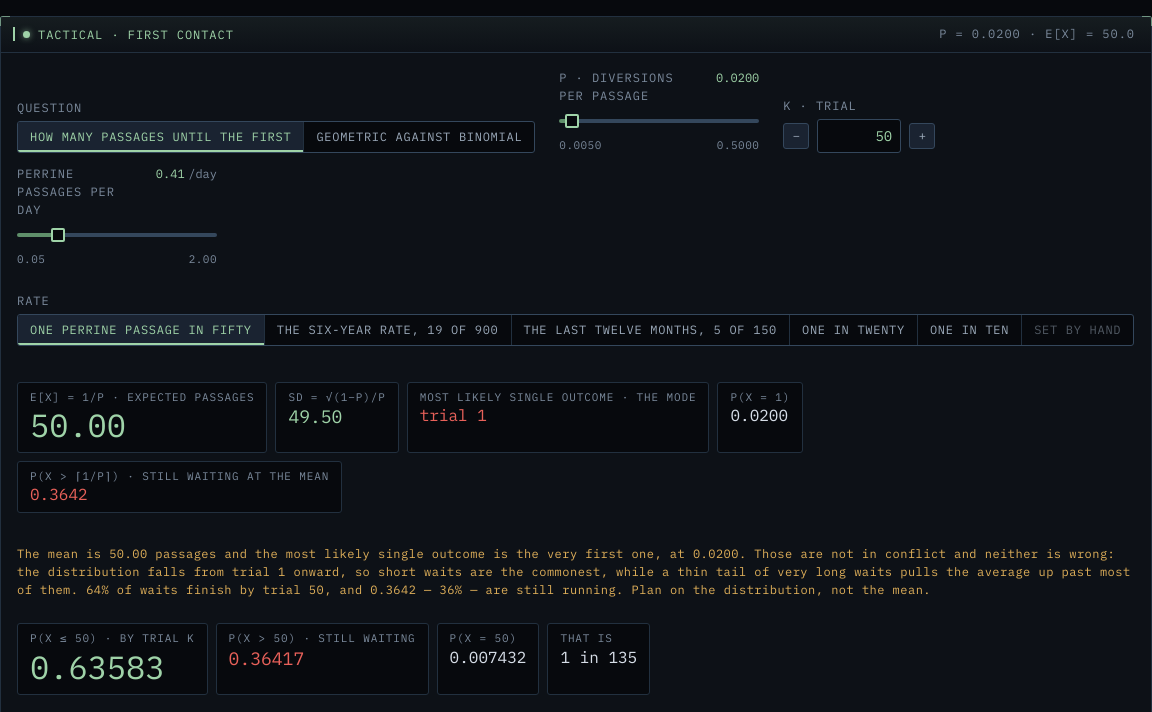
Scenario: <GeometricExplorer> › puts the geometric question beside the binomial one for the same p
Click the radio button labelled "geometric against binomial": x=419, y=137 top-left (304, 122), bottom-right (534, 152)
(page scrolled)
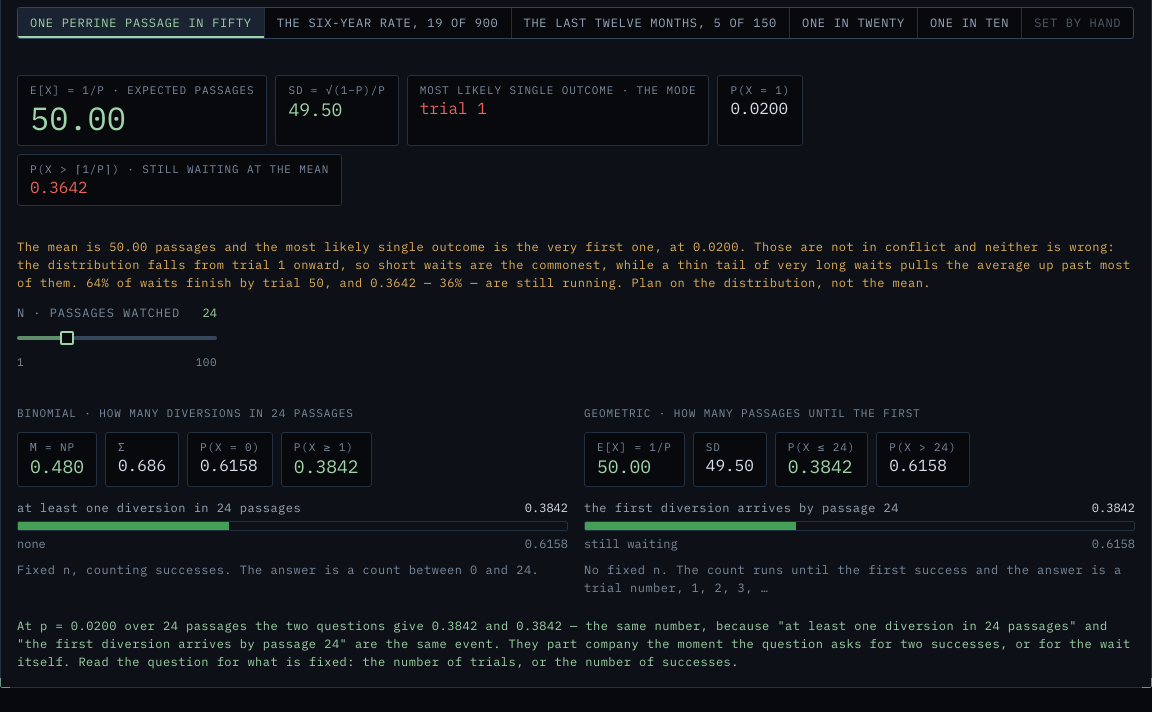
Expected: the text "the same event" is shown, top-left (17, 636), bottom-right (1131, 669)
